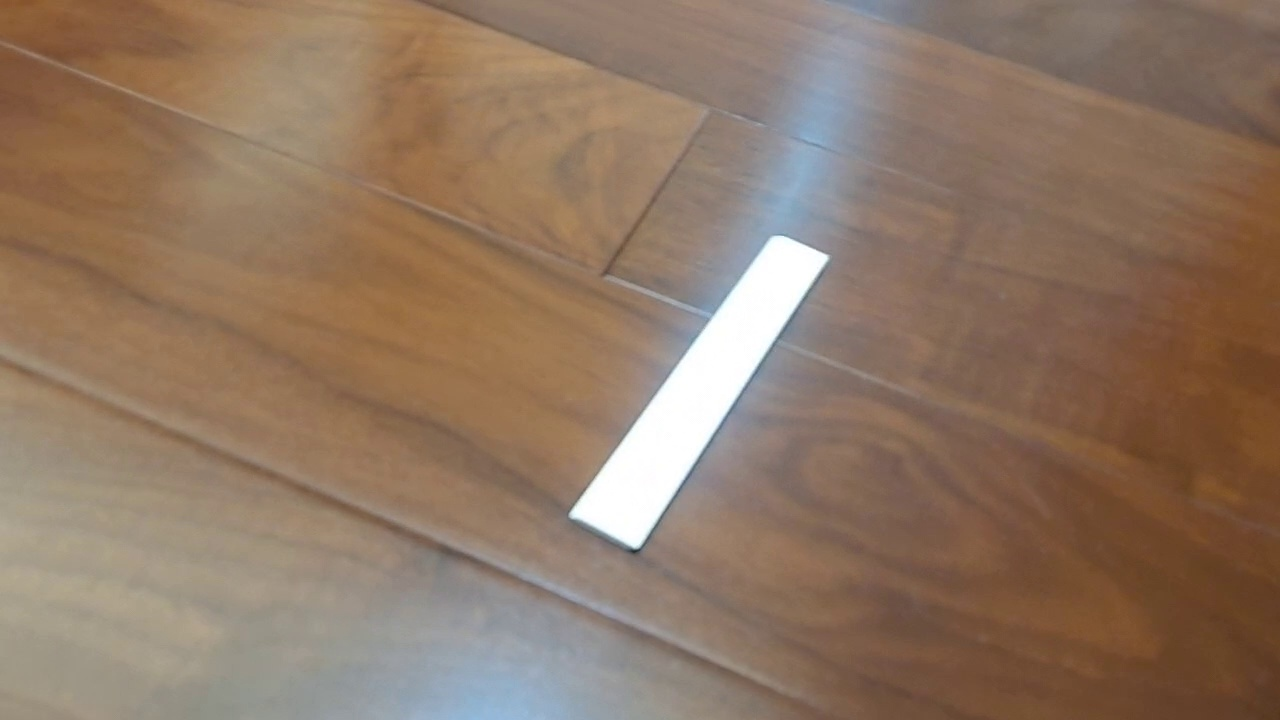ruler: (567, 232, 833, 554)
